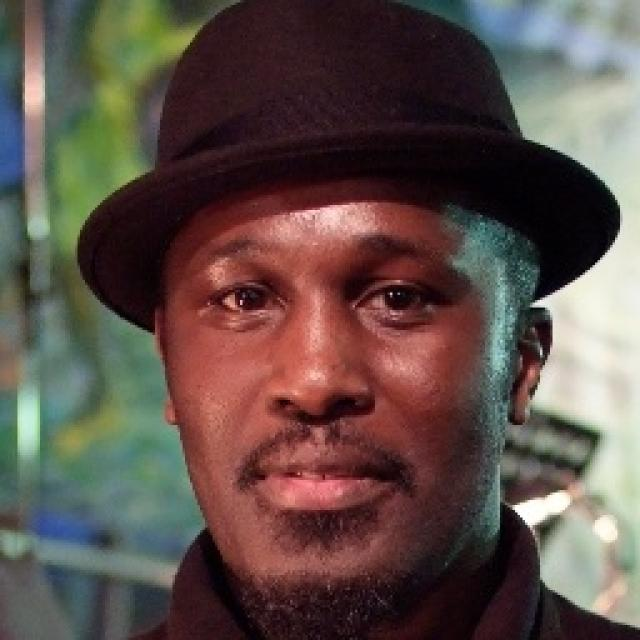earlobe: (508, 387, 532, 426)
eye: (359, 282, 434, 318), (213, 281, 279, 319)
nose: (268, 396, 370, 454)
wholeear: (508, 306, 554, 426)
